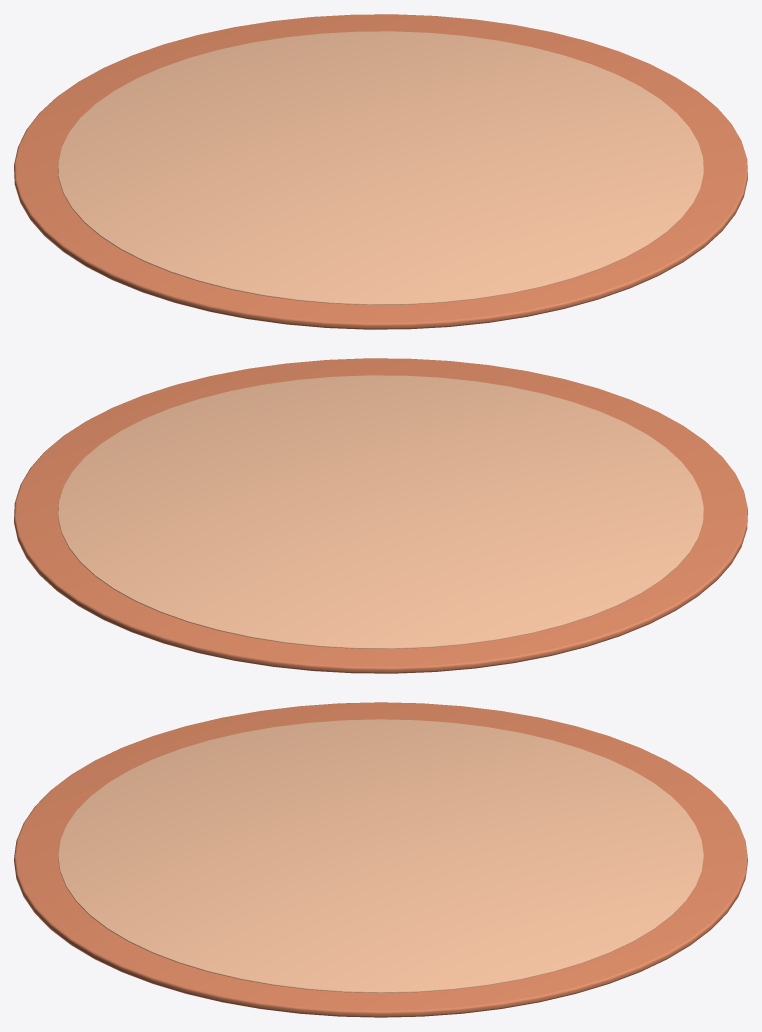
The model's file is tapete_redondo_pessego.glb.
3 renders of one model, top to bottom at view 1: azimuth 30°, elevation 25°; view 2: azimuth 150°, elevation 25°; view 3: azimuth 270°, elevation 25°, orthographic.
Visible parts, largest first — view 1: tapete_redondo_pessego; view 2: tapete_redondo_pessego; view 3: tapete_redondo_pessego.
Boxes of the visible parts, left/top/right/bottom form: tapete_redondo_pessego: left=14, top=14, right=747, bottom=329; tapete_redondo_pessego: left=14, top=358, right=747, bottom=673; tapete_redondo_pessego: left=14, top=702, right=747, bottom=1017.
Bounding box in the file's own units: 1 × 0.0116 × 1.
Materials: 1 (1 with a texture image).
